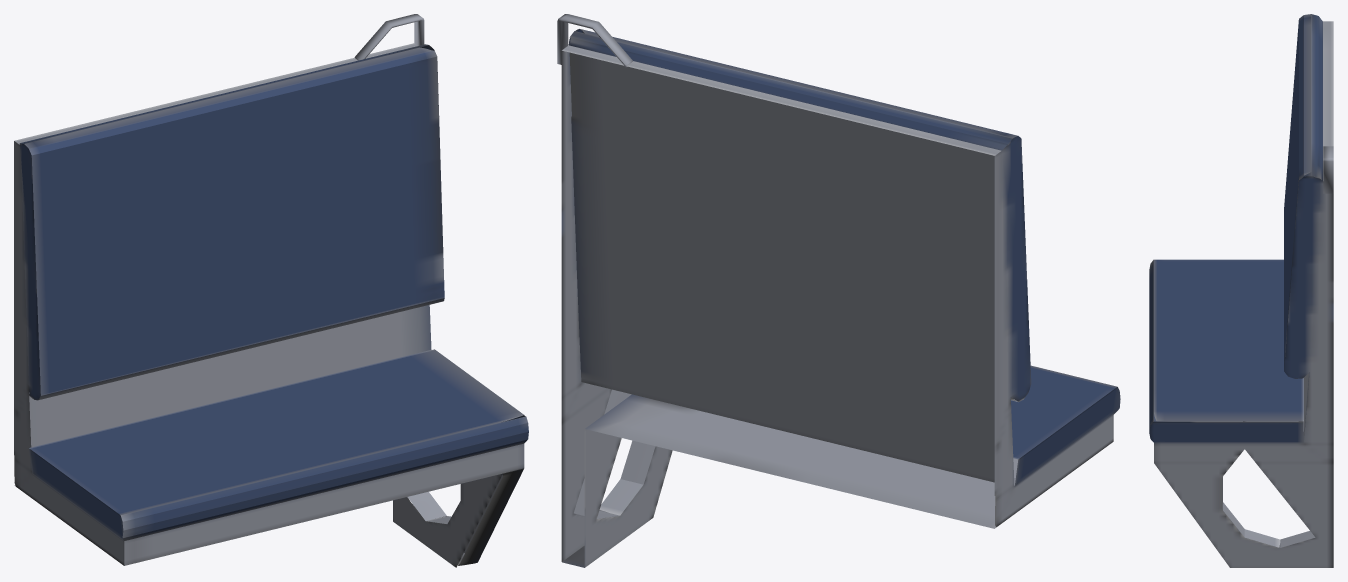
Rendered from seat one side second type.obj.
3 views of the same model, side by side, from view 1: azimuth 30°, elevation 25°; view 2: azimuth 150°, elevation 25°; view 3: azimuth 270°, elevation 25° (orthographic). The views are drawn at different scales.
Visible parts, largest first — view 1: Small_Seat_Right_Cube.005; view 2: Small_Seat_Right_Cube.005; view 3: Small_Seat_Right_Cube.005.
Part boxes in pixels (left/top/right/bottom): Small_Seat_Right_Cube.005: left=14, top=14, right=528, bottom=567; Small_Seat_Right_Cube.005: left=557, top=14, right=1120, bottom=567; Small_Seat_Right_Cube.005: left=1149, top=14, right=1333, bottom=567.
Size of the model in its own units: 0.5823 by 0.6855 by 0.2793.
